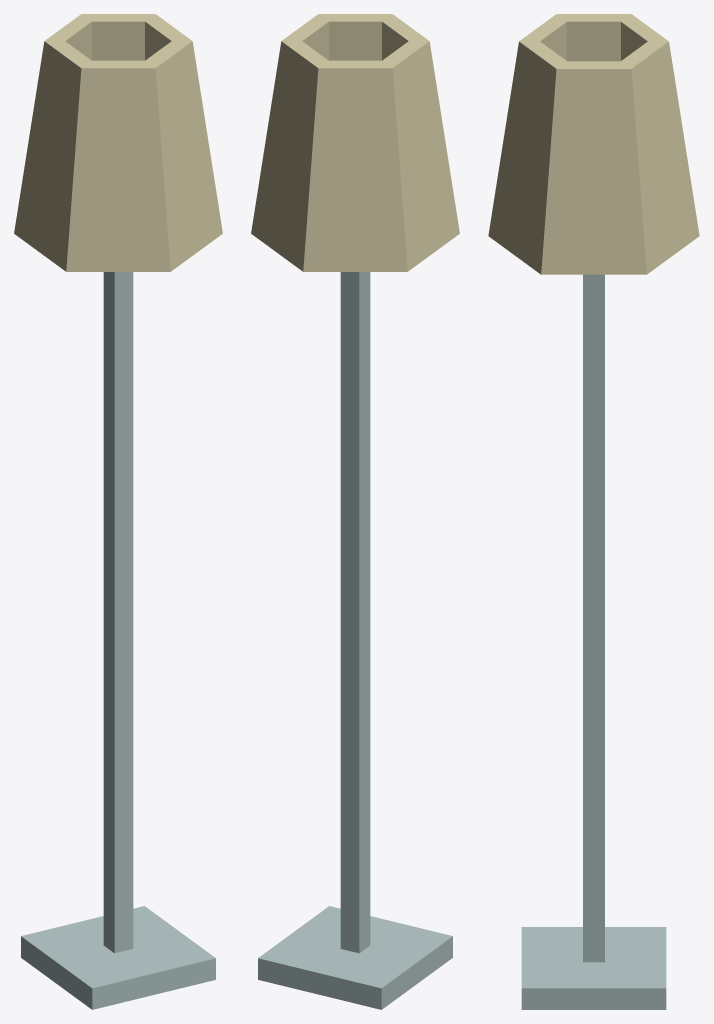
File: furn_lamp_floor.glb
3 renders of one model, left to right at view 1: azimuth 30°, elevation 25°; view 2: azimuth 150°, elevation 25°; view 3: azimuth 270°, elevation 25°, orthographic.
Parts seen in each view (by area): view 1: furn_lamp_floor; view 2: furn_lamp_floor; view 3: furn_lamp_floor.
Boxes of the visible parts, x1=… form: furn_lamp_floor: x1=14, y1=14, x2=222, y2=1009; furn_lamp_floor: x1=251, y1=14, x2=459, y2=1009; furn_lamp_floor: x1=488, y1=14, x2=699, y2=1009.
Bounding box in the file's own units: 0.3041 × 1.72 × 0.3511.
